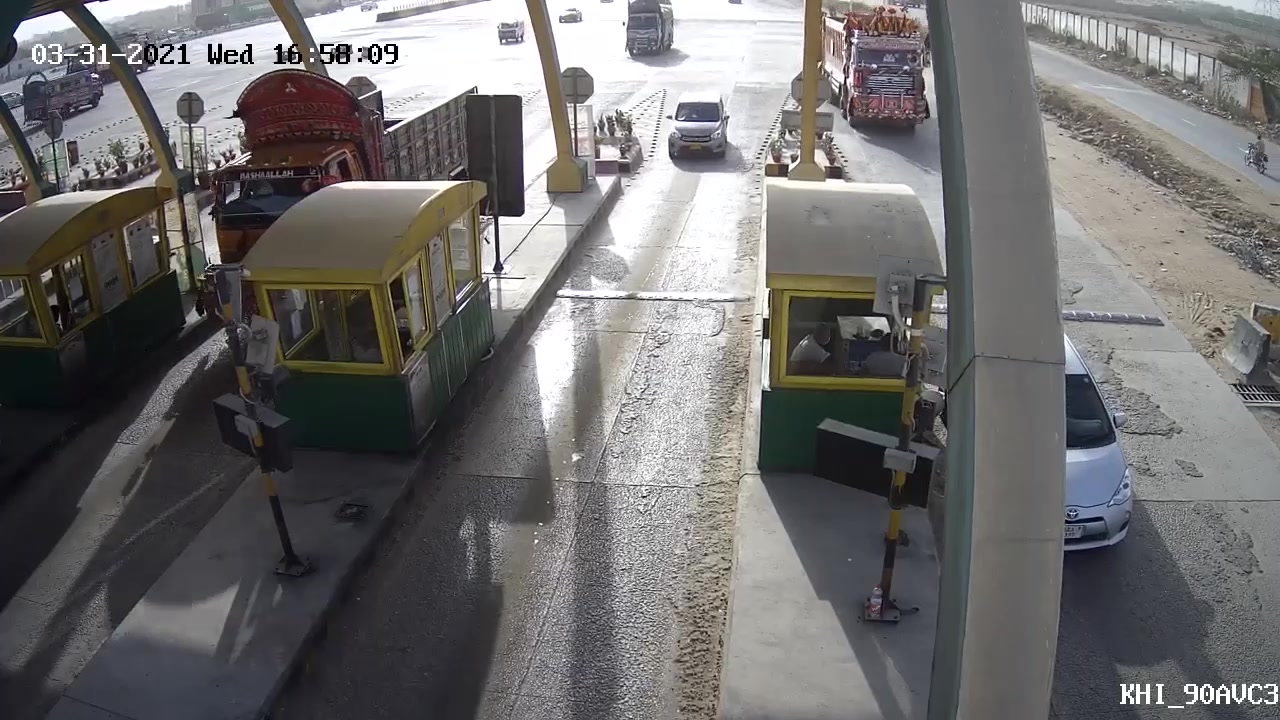F1: (663, 88, 735, 164)
